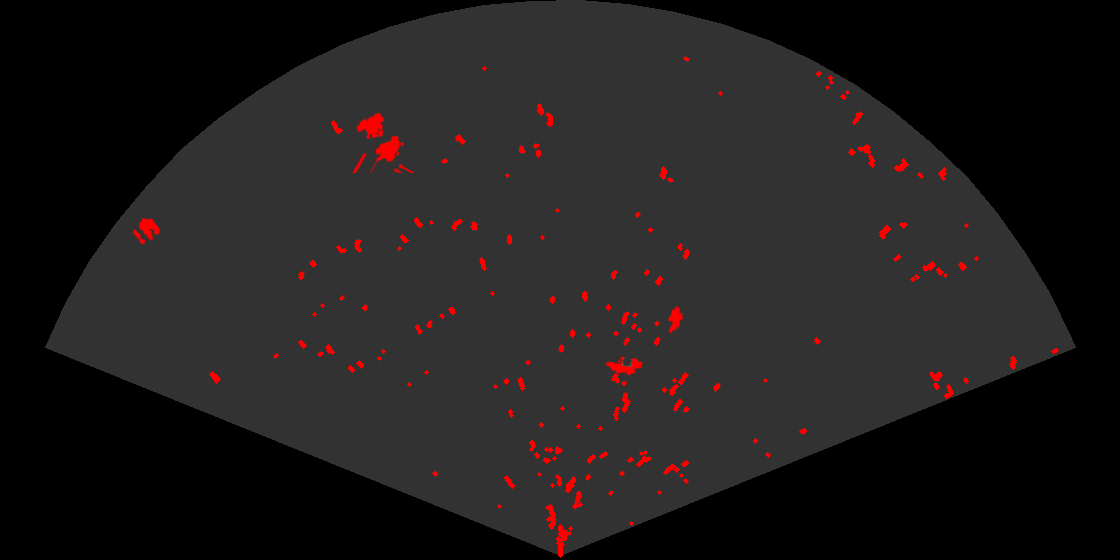AUV: (604, 355, 645, 377), (666, 304, 685, 335)
ball: (131, 216, 162, 246)
cage: (351, 111, 416, 173)
